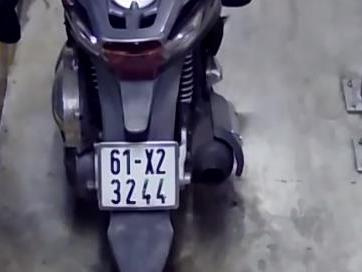num_plate: (96, 140, 178, 210)
